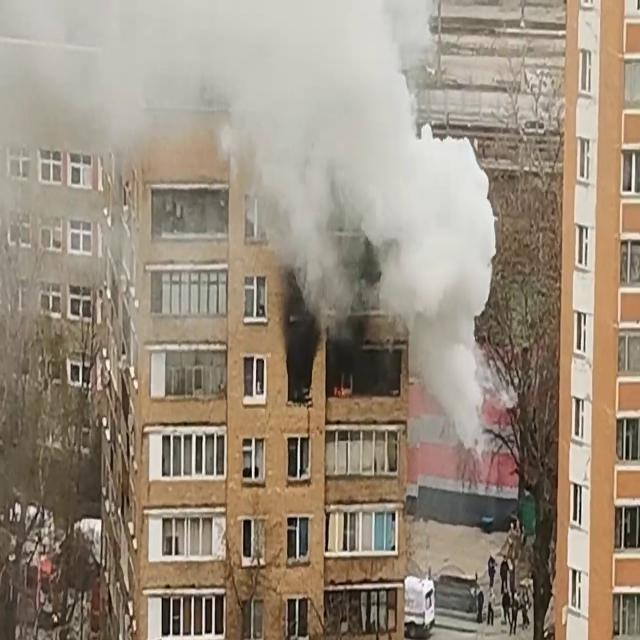Smoke: (242, 0, 502, 398)
